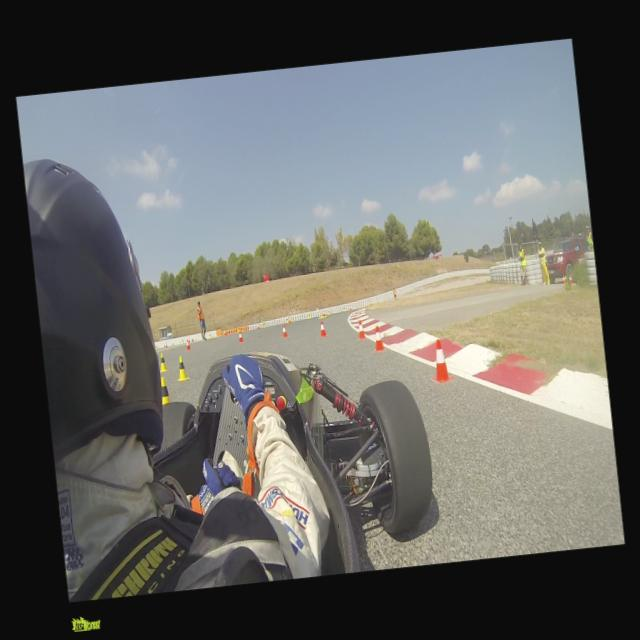orange_cone: (428, 338, 454, 387), (372, 324, 386, 352), (356, 319, 366, 340), (319, 321, 326, 336), (560, 274, 567, 286), (281, 324, 287, 337), (238, 330, 244, 342), (186, 340, 190, 350), (568, 274, 572, 284), (348, 305, 352, 311), (165, 343, 168, 348), (257, 323, 259, 329), (188, 338, 190, 343), (224, 330, 226, 335), (288, 318, 290, 323)
yellow_cone: (174, 354, 189, 382), (159, 377, 171, 403), (157, 351, 168, 372), (154, 344, 157, 350), (262, 322, 265, 327), (343, 306, 345, 312), (181, 338, 183, 344), (209, 333, 211, 338), (237, 326, 239, 331), (286, 317, 288, 322), (308, 313, 310, 318), (328, 309, 330, 314), (356, 304, 358, 309)
